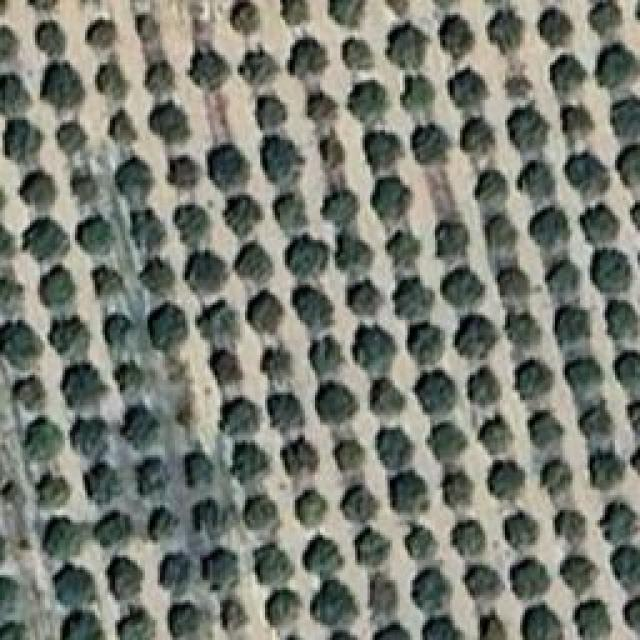Tree: (258, 133, 309, 184), (353, 325, 397, 377), (285, 33, 331, 82), (313, 580, 359, 627), (380, 22, 427, 67), (565, 153, 609, 201), (343, 78, 390, 122), (593, 45, 637, 92), (508, 105, 551, 153), (63, 362, 108, 407), (235, 42, 279, 88), (285, 235, 329, 281), (43, 63, 86, 110), (186, 47, 230, 92), (195, 300, 239, 345), (110, 155, 157, 197), (0, 320, 42, 367), (23, 218, 68, 261), (210, 142, 252, 188), (52, 565, 99, 606), (148, 303, 188, 351), (455, 314, 498, 358), (445, 65, 487, 110), (43, 518, 88, 560), (488, 5, 528, 52), (415, 370, 458, 413), (148, 100, 192, 142), (393, 277, 434, 322), (50, 315, 90, 361), (293, 285, 333, 331), (185, 250, 228, 292), (315, 383, 358, 425), (398, 75, 439, 119), (443, 268, 487, 309), (373, 177, 413, 222), (123, 405, 162, 451), (413, 568, 452, 614), (225, 195, 264, 240), (537, 0, 575, 46), (335, 232, 373, 277), (592, 250, 630, 295), (303, 535, 343, 577), (390, 470, 430, 512), (510, 558, 550, 600), (530, 208, 570, 250), (548, 53, 591, 92), (5, 120, 44, 163), (25, 418, 64, 461), (580, 205, 619, 247), (247, 290, 285, 333), (600, 503, 638, 546), (428, 422, 468, 462), (85, 13, 124, 54), (255, 543, 294, 584), (235, 243, 274, 284), (232, 443, 270, 485), (412, 123, 450, 165), (461, 115, 498, 158), (40, 265, 76, 308), (133, 210, 167, 255), (282, 437, 320, 477), (365, 134, 403, 174), (515, 360, 553, 400), (517, 160, 555, 200), (85, 463, 121, 505), (203, 548, 239, 590), (440, 13, 475, 56), (273, 193, 308, 236), (110, 558, 144, 601), (175, 205, 209, 248), (380, 428, 414, 471), (322, 190, 360, 228), (565, 358, 603, 396), (253, 98, 292, 135), (78, 215, 114, 255), (93, 513, 133, 549), (560, 555, 596, 595), (528, 414, 564, 454), (590, 450, 626, 490), (478, 415, 513, 456), (590, 0, 624, 42), (310, 335, 344, 377), (303, 92, 346, 125), (103, 108, 140, 146), (222, 398, 260, 435), (408, 325, 442, 366), (343, 485, 379, 523), (465, 565, 503, 601), (563, 105, 596, 146), (490, 463, 526, 500), (73, 420, 108, 458), (355, 528, 390, 566), (370, 378, 405, 416), (525, 605, 563, 640), (0, 72, 30, 116), (273, 392, 306, 432), (468, 367, 501, 407), (265, 590, 300, 627), (348, 280, 383, 317), (505, 513, 540, 550), (435, 223, 469, 261), (168, 153, 203, 189), (140, 258, 175, 294), (612, 98, 640, 143), (612, 545, 640, 590), (340, 32, 377, 66), (20, 173, 54, 210), (545, 260, 579, 297), (540, 458, 573, 496), (160, 555, 191, 595), (608, 300, 638, 341), (243, 495, 278, 530), (388, 230, 422, 266), (558, 310, 592, 346), (90, 62, 127, 95), (117, 607, 154, 640), (210, 350, 243, 387), (295, 490, 328, 527), (505, 314, 540, 348), (453, 520, 486, 556), (370, 573, 398, 615), (615, 353, 640, 400), (38, 472, 71, 507), (405, 525, 438, 560), (575, 605, 608, 640), (140, 60, 172, 96), (170, 603, 201, 640), (485, 216, 518, 250), (475, 170, 509, 203), (63, 612, 103, 640), (443, 470, 473, 507), (138, 458, 167, 496), (580, 405, 613, 438), (35, 23, 65, 59), (185, 454, 216, 488), (105, 315, 135, 350), (148, 507, 178, 542), (617, 145, 640, 190), (230, 0, 260, 34), (58, 123, 89, 155), (0, 269, 22, 314), (263, 348, 293, 381), (192, 500, 220, 535), (330, 0, 366, 27), (93, 265, 124, 296), (15, 380, 46, 411), (503, 70, 533, 102), (335, 440, 365, 472), (558, 510, 587, 543), (115, 364, 145, 394), (320, 134, 346, 168), (422, 617, 459, 640), (500, 270, 530, 298), (133, 8, 161, 38), (223, 598, 249, 630), (0, 577, 19, 617), (480, 612, 506, 640), (0, 28, 19, 64), (282, 0, 309, 24), (372, 623, 410, 640), (73, 175, 94, 203), (625, 598, 640, 633), (0, 225, 14, 257), (0, 625, 25, 640)
